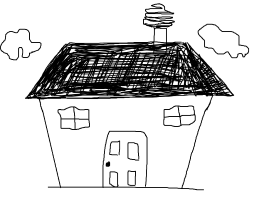closed_window: (152, 103, 205, 133), (46, 106, 103, 131)
clouds: (191, 18, 255, 61), (0, 21, 46, 65)
door: (97, 123, 154, 193)
shaded_roof: (18, 39, 236, 104)
smoking_chimney: (142, 1, 183, 50)
wall: (35, 93, 218, 196)
